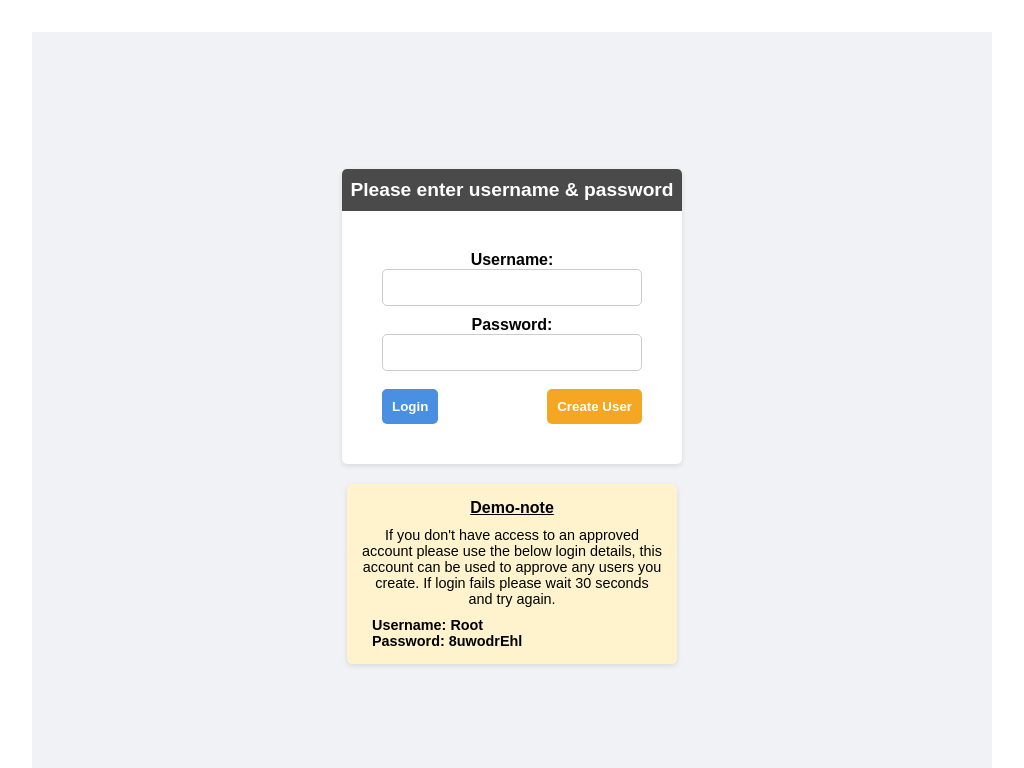
it: shows error message on invalid credentials
Type "invaliduser" into the field labelled "Username:" at (512, 287), box top-left (382, 268), bottom-right (642, 306)
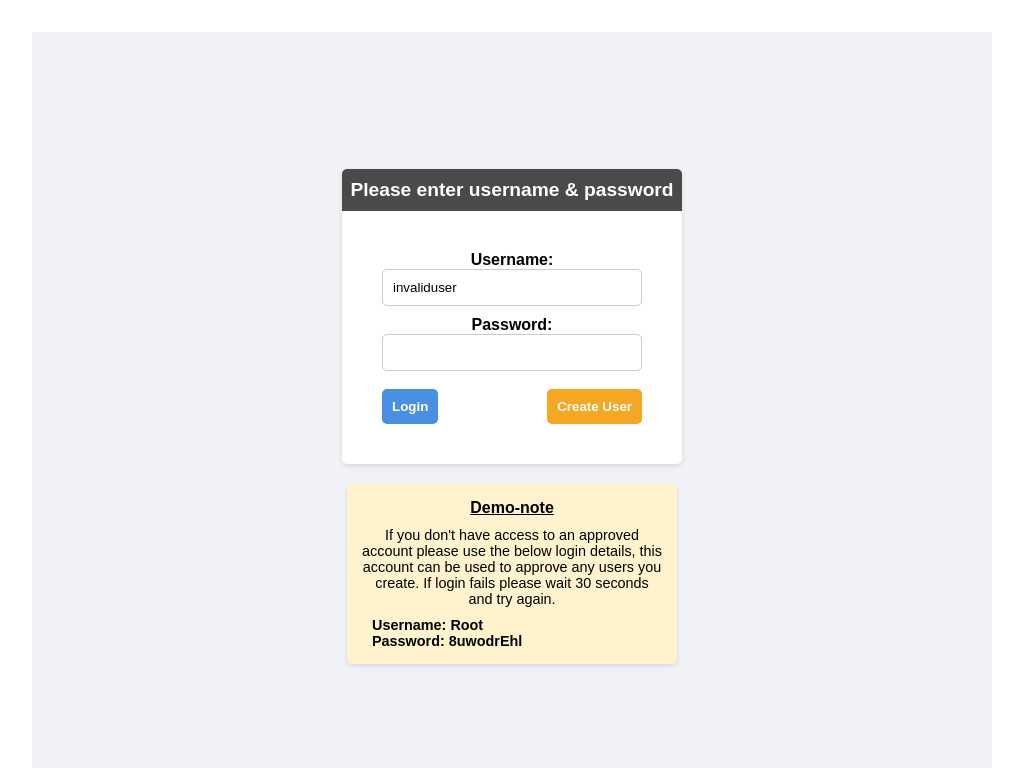
Type "invalidpassword" into the password field labelled "Password:" at (512, 352), box top-left (382, 334), bottom-right (642, 370)
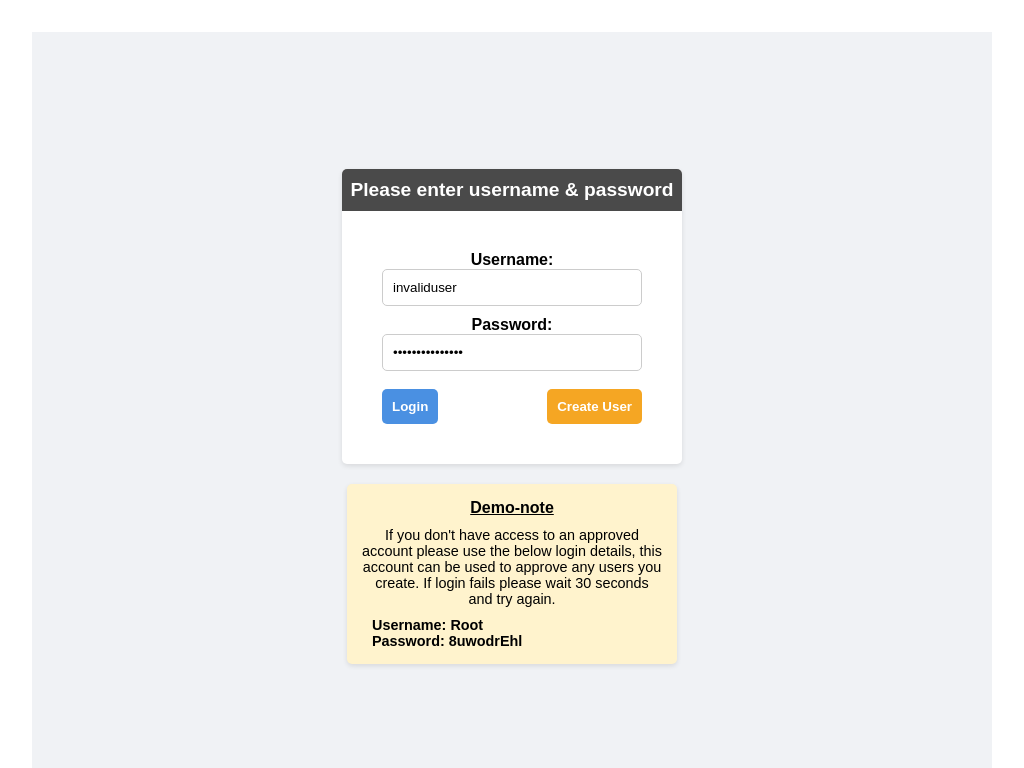
Click the button "Login" at (410, 406), box top-left (382, 388), bottom-right (438, 424)
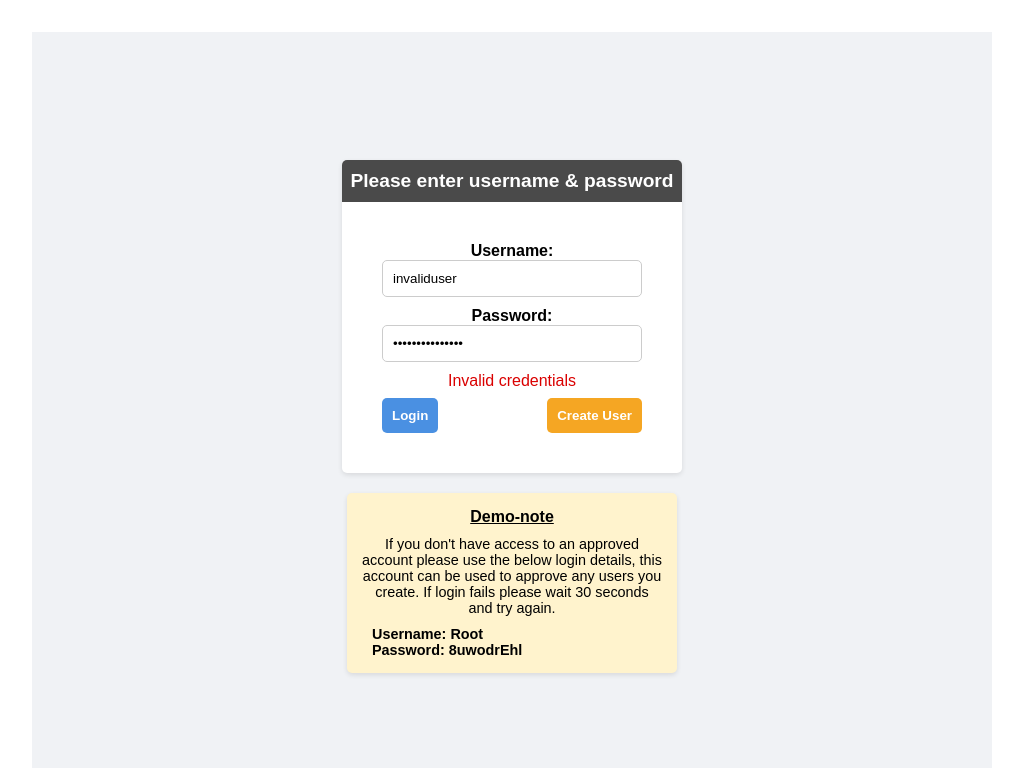
Check: the message reads "Invalid credentials", box top-left (448, 372), bottom-right (576, 388)
